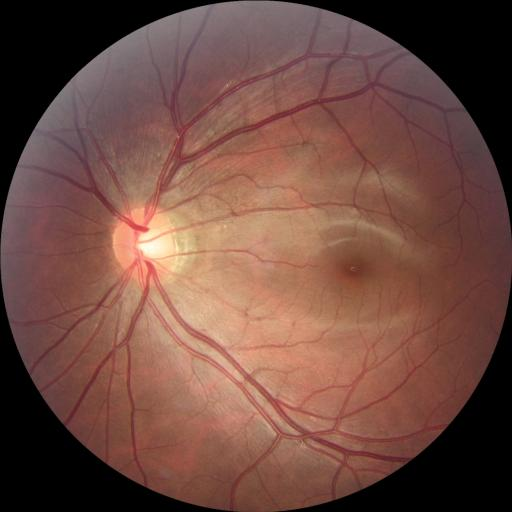Optic Cup: (136, 229, 165, 259)
Optic Disc: (113, 206, 179, 285)
